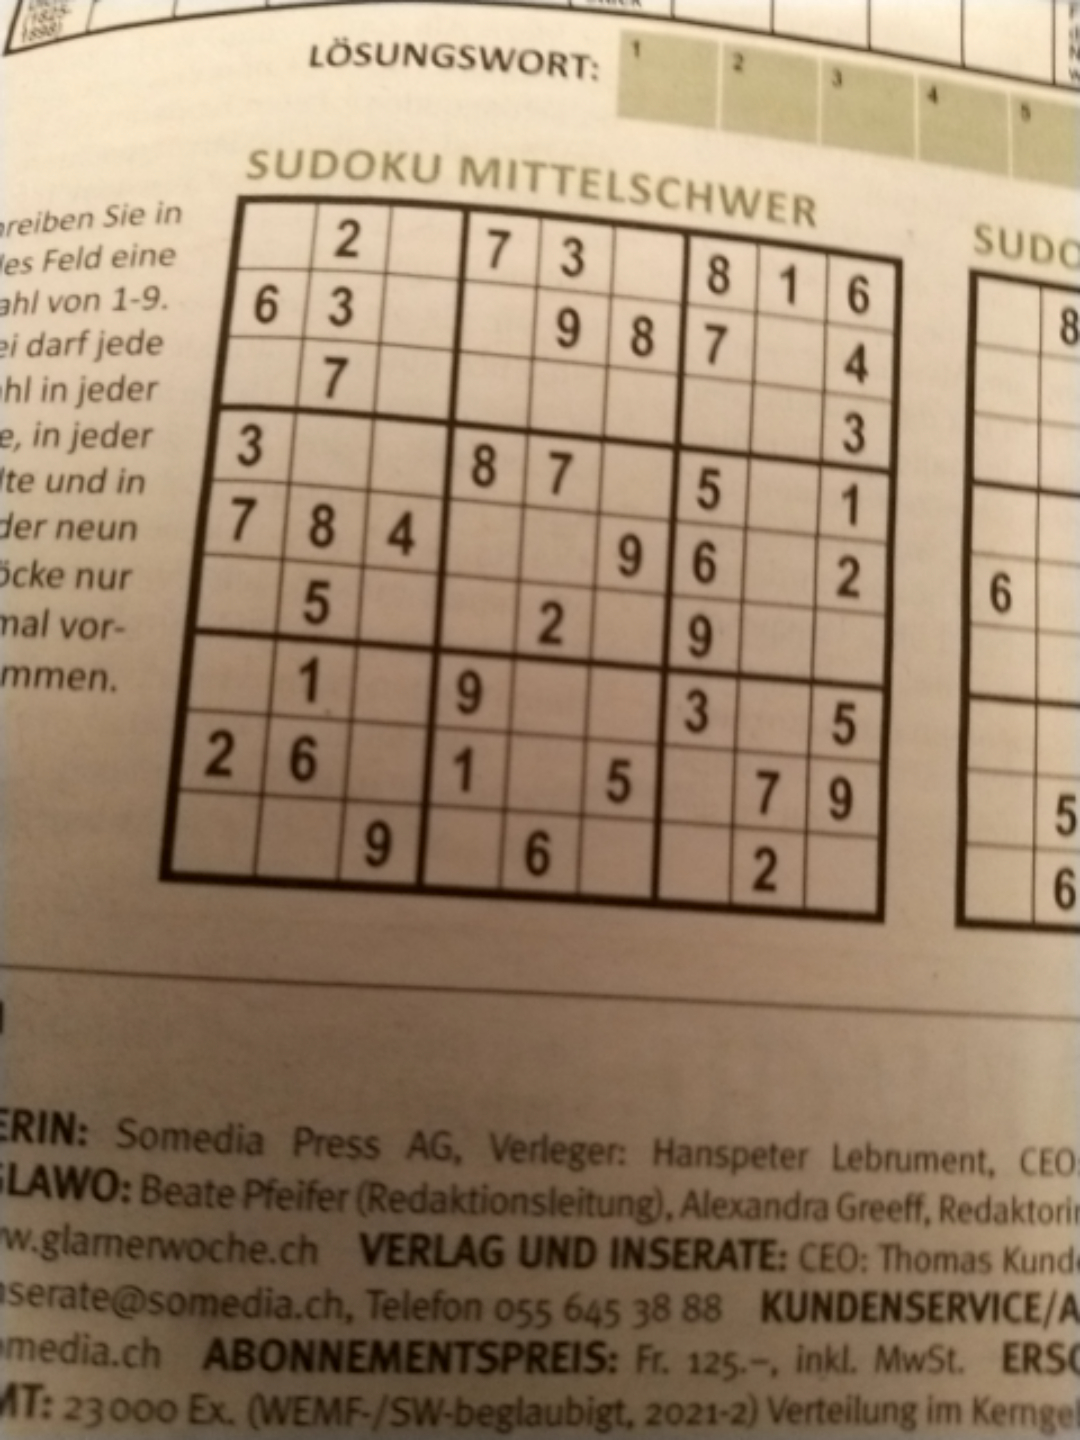sudoku: (149, 188, 905, 927)
